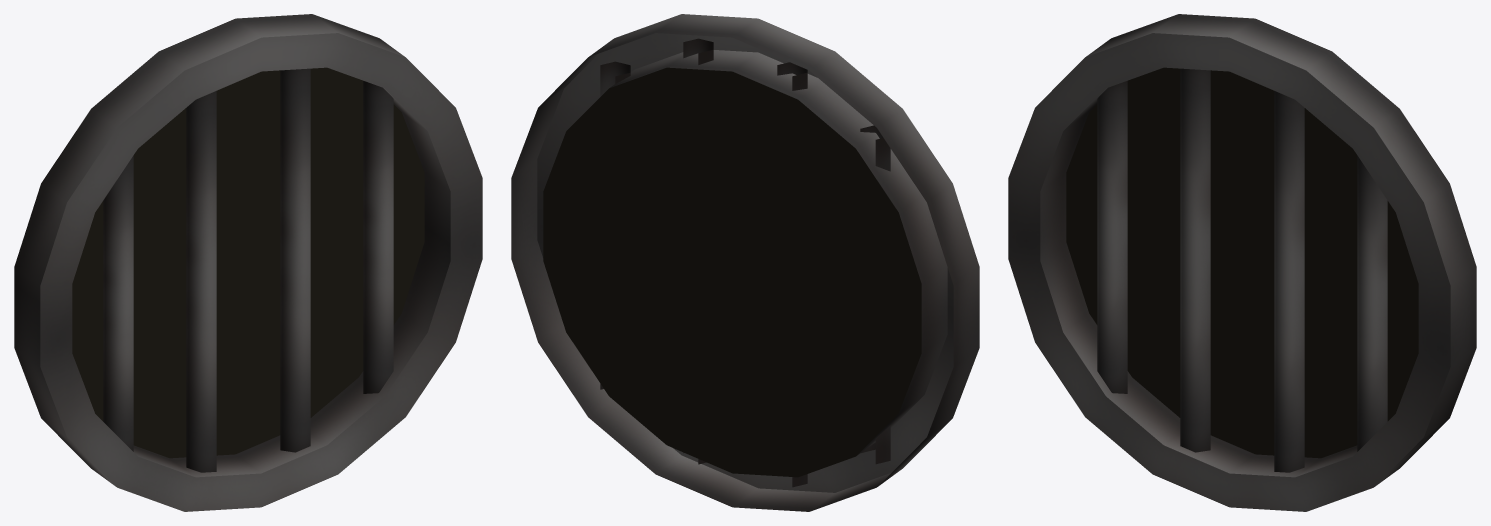
Rendered from sewer.fbx.
3 renders of one model, left to right at view 1: azimuth 30°, elevation 25°; view 2: azimuth 150°, elevation 25°; view 3: azimuth 330°, elevation 25°, orthographic.
Visible parts, largest first — view 1: sewer_; view 2: sewer_; view 3: sewer_.
Boxes of the visible parts, <box> form: sewer_: <box>14,14,482,511</box>; sewer_: <box>511,14,979,511</box>; sewer_: <box>1008,14,1476,511</box>.
Size of the model in its own units: 132 by 134 by 13.43.
